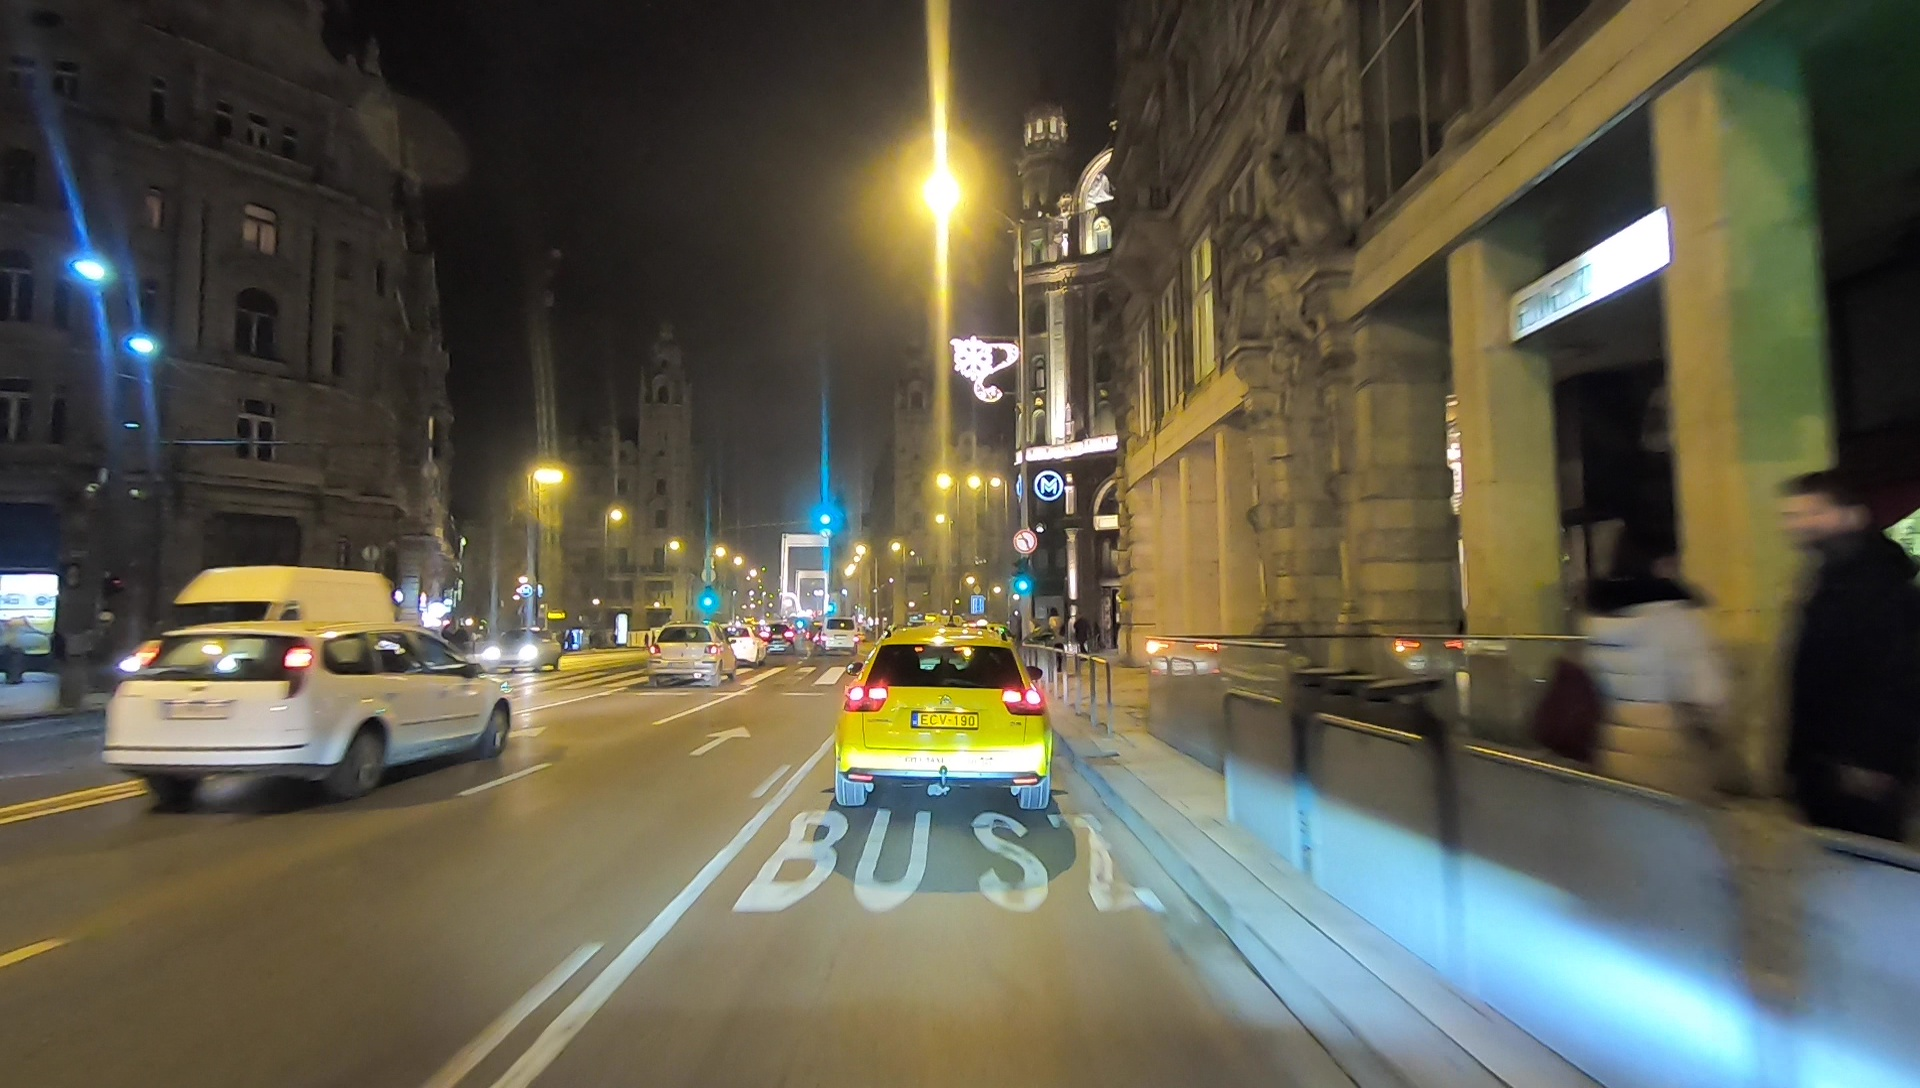person: (1556, 513, 1751, 963), (1767, 471, 1920, 966)
